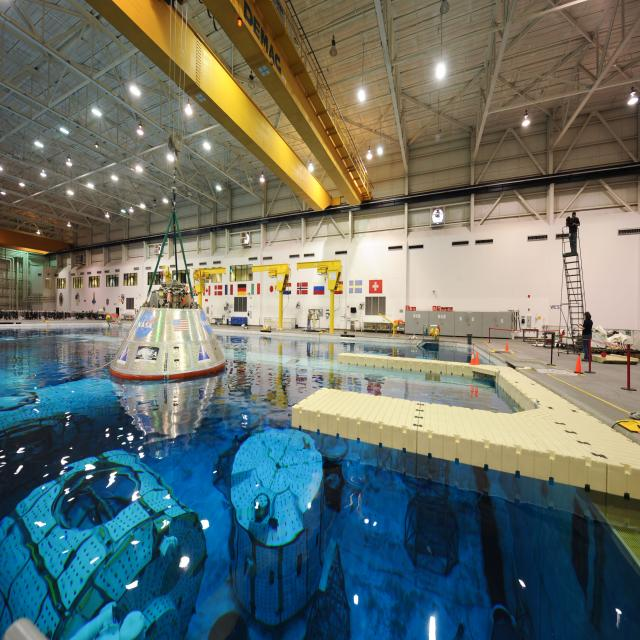Orion_capsule_mockup_(WEST)_located_on_far_end_of_pool: (108, 280, 226, 383)
